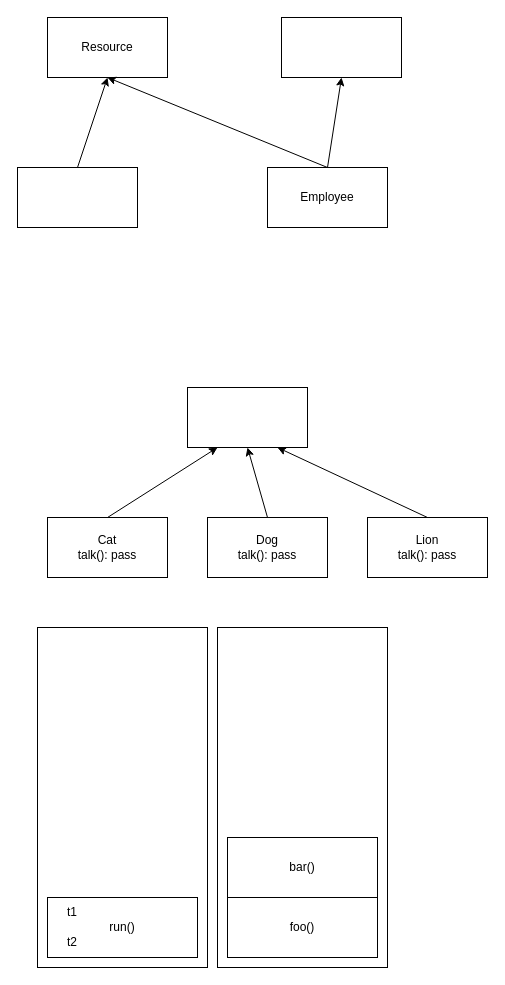
Some shapes in this 505 by 985 pixel diagram are drawn without their labels. The shapes that lost their labels are listed below. From the top down, each one's centre as x and y in pixels, then its label:
(341,47): Person
(77,197): Printer
(247,417): Animal talk() -> None
